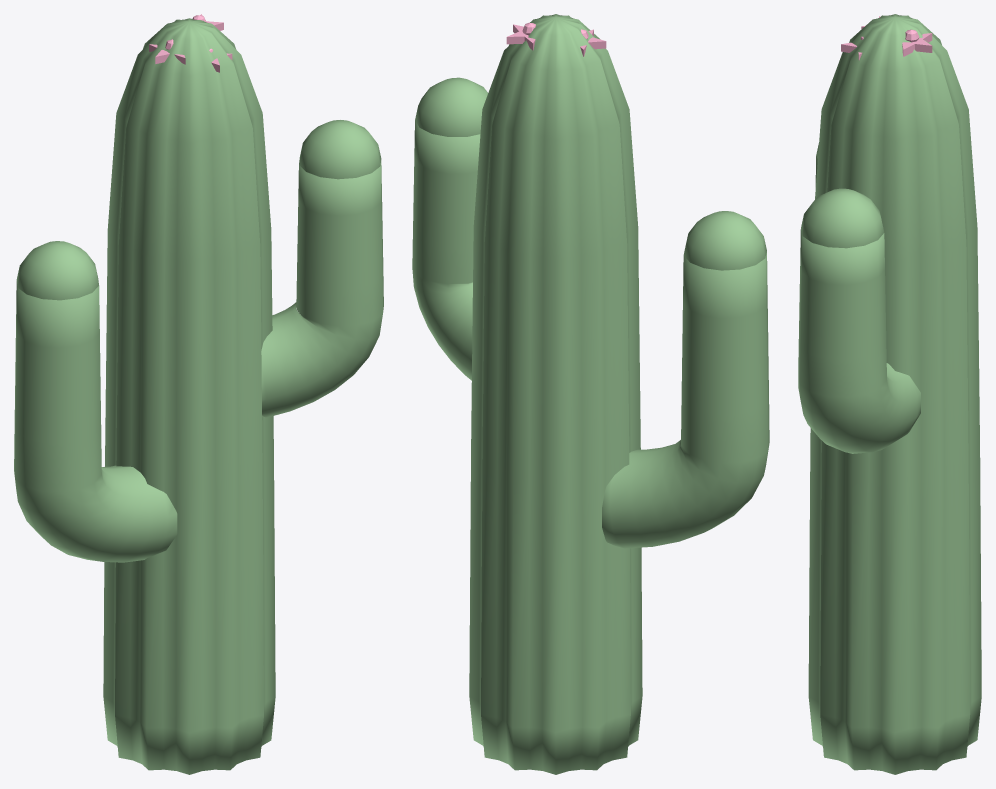
Rendered from Cactus.glb.
The picture shows the model from 3 angles, left to right: view 1: azimuth 30°, elevation 25°; view 2: azimuth 150°, elevation 25°; view 3: azimuth 270°, elevation 25°; orthographic projection.
Visible parts, largest first — view 1: Cactus, Flower; view 2: Cactus, Flower; view 3: Cactus, Flower.
Part boxes in pixels (x1,y1,x2,y2): Cactus: (14,18,383,774); Flower: (149,14,232,72); Cactus: (412,14,769,774); Flower: (506,22,606,56); Cactus: (798,14,981,774); Flower: (841,16,932,60).
Bounding box in the file's own units: 5.03 × 9.85 × 2.27.
